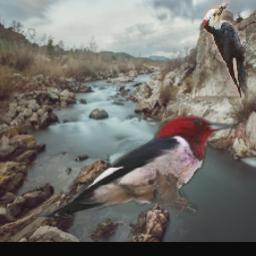Woodpecker: (33, 113, 239, 218), (205, 0, 256, 98)
